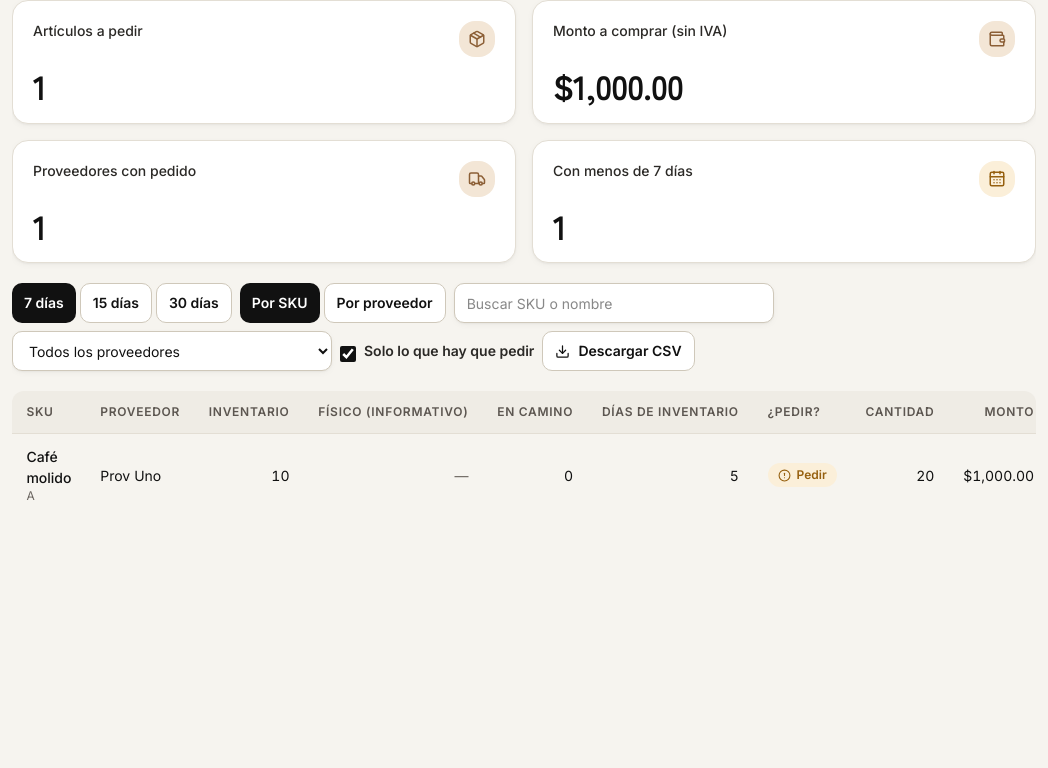
Test: Qué pedir › muestra KPIs y por omisión solo lo que hay que pedir; el filtro muestra todo
The width and height of the screenshot is (1048, 768).
Check: the text "Café molido" is shown, box [26, 446, 71, 488]
Check: the text "Vasos" is not shown
Click the checkbox labelled "Solo lo que hay que pedir": (348, 354) [340, 346, 356, 362]
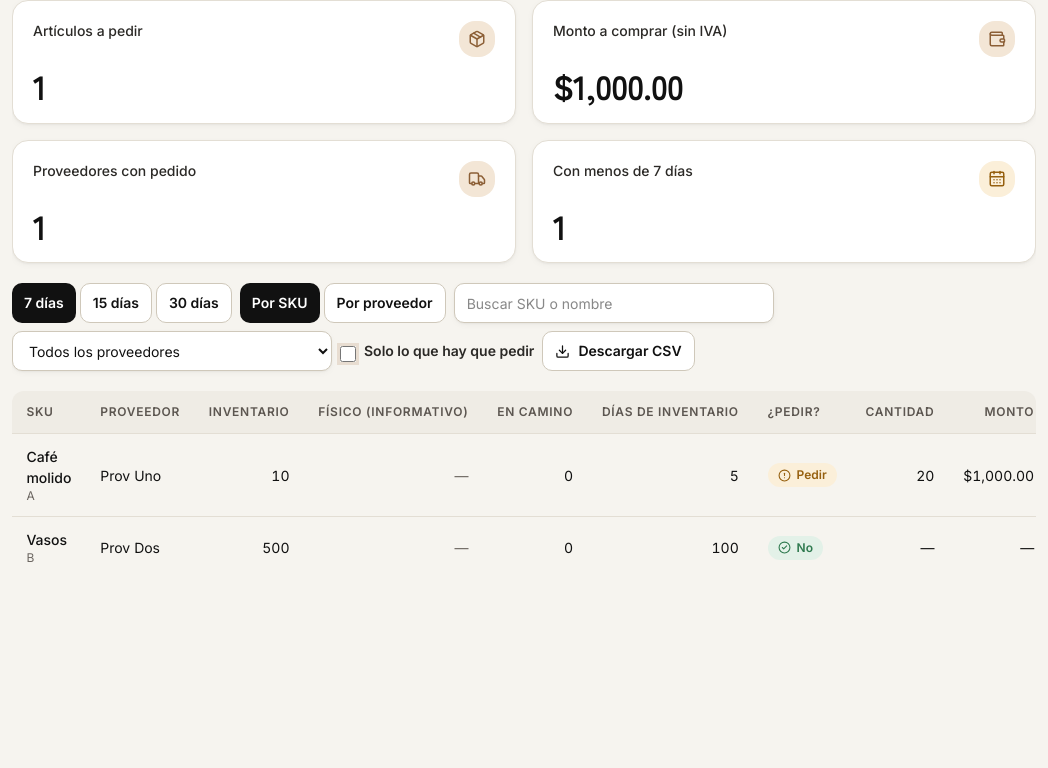
Check: the text "Vasos" is shown, box [26, 529, 71, 550]
